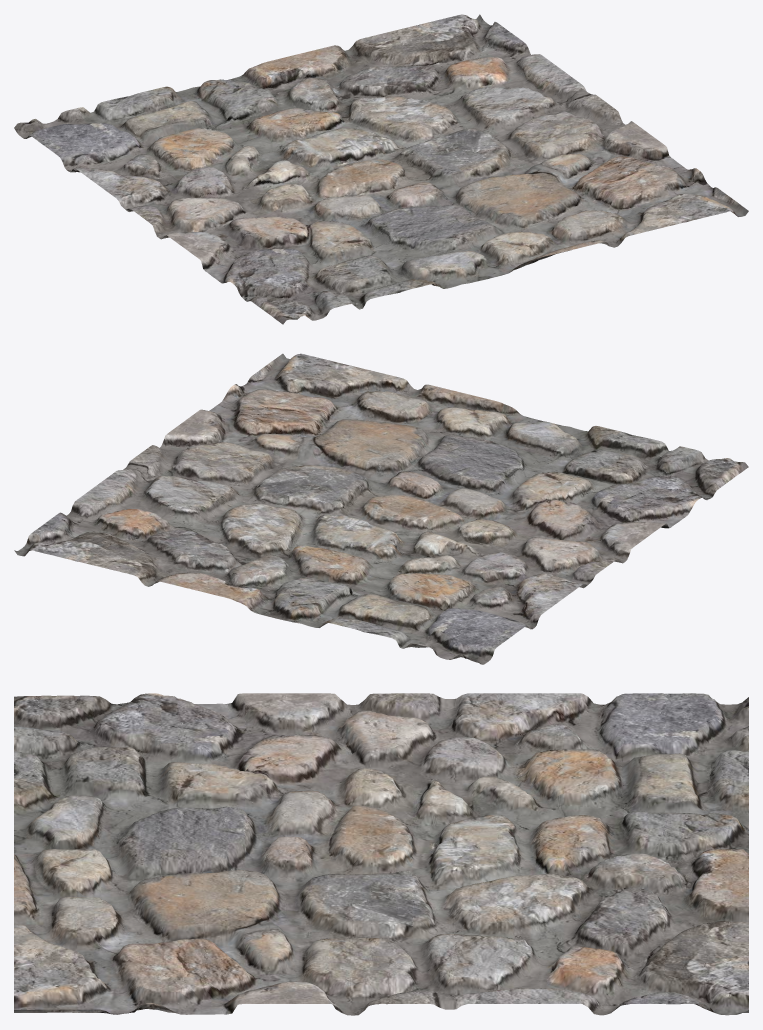
File: CobbleStones.obj
3 renders of one model, top to bottom at view 1: azimuth 30°, elevation 25°; view 2: azimuth 150°, elevation 25°; view 3: azimuth 270°, elevation 25°, orthographic. The views are drawn at different scales.
Parts seen in each view (by area): view 1: Plane; view 2: Plane; view 3: Plane.
Boxes of the visible parts, x1,y1,x2,y2 form: Plane: (14, 14, 748, 324); Plane: (14, 353, 748, 664); Plane: (14, 693, 748, 1015).
Size of the model in its own units: 1 by 0.018 by 1.
1 material, 1 textured.
